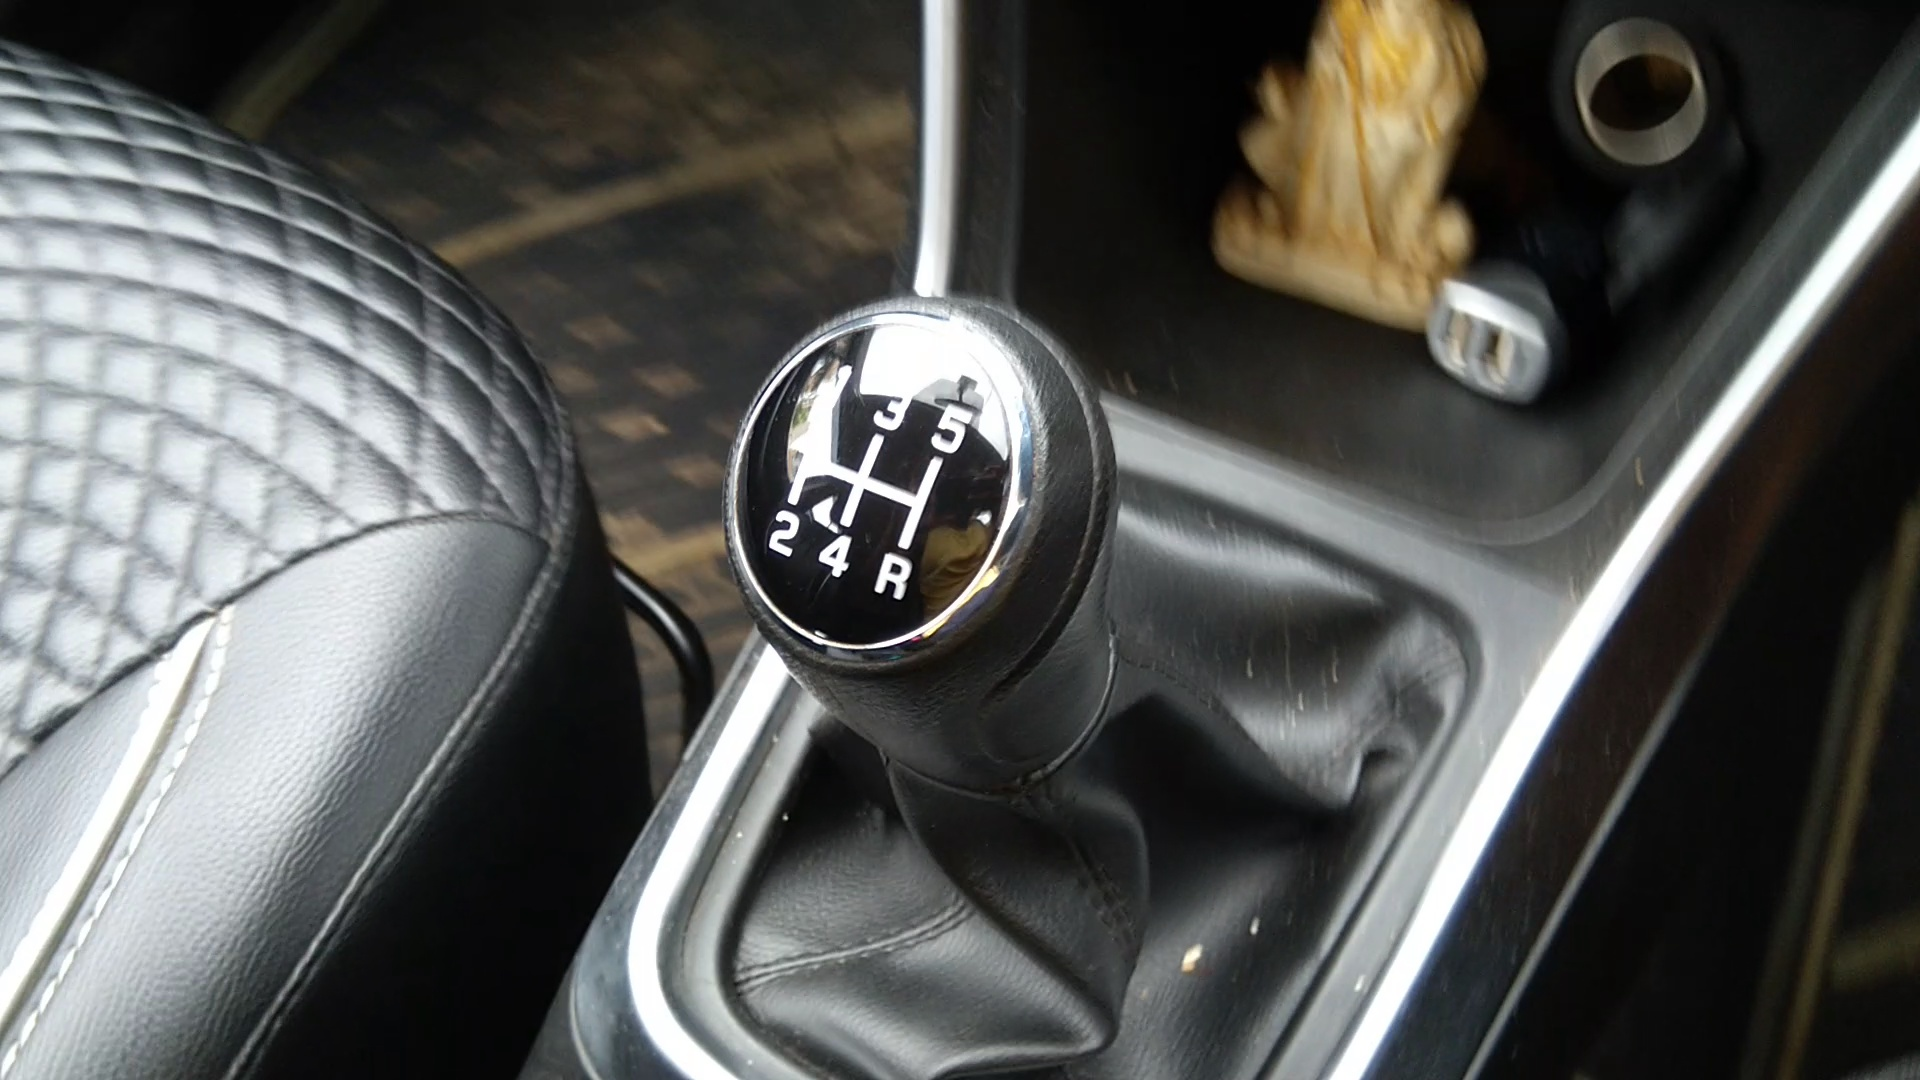manual_gear: (724, 290, 1121, 855)
